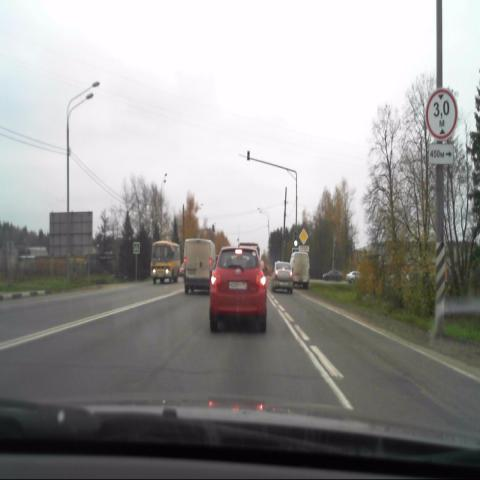3_13: (425, 83, 458, 142)
